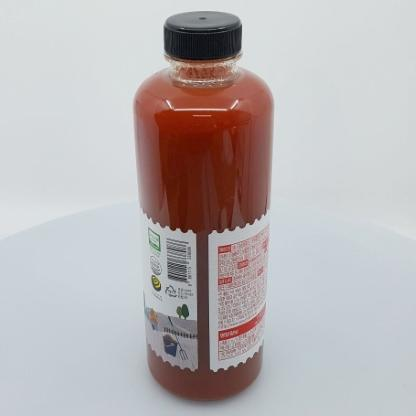-------------------900ML: (133, 11, 274, 403)
